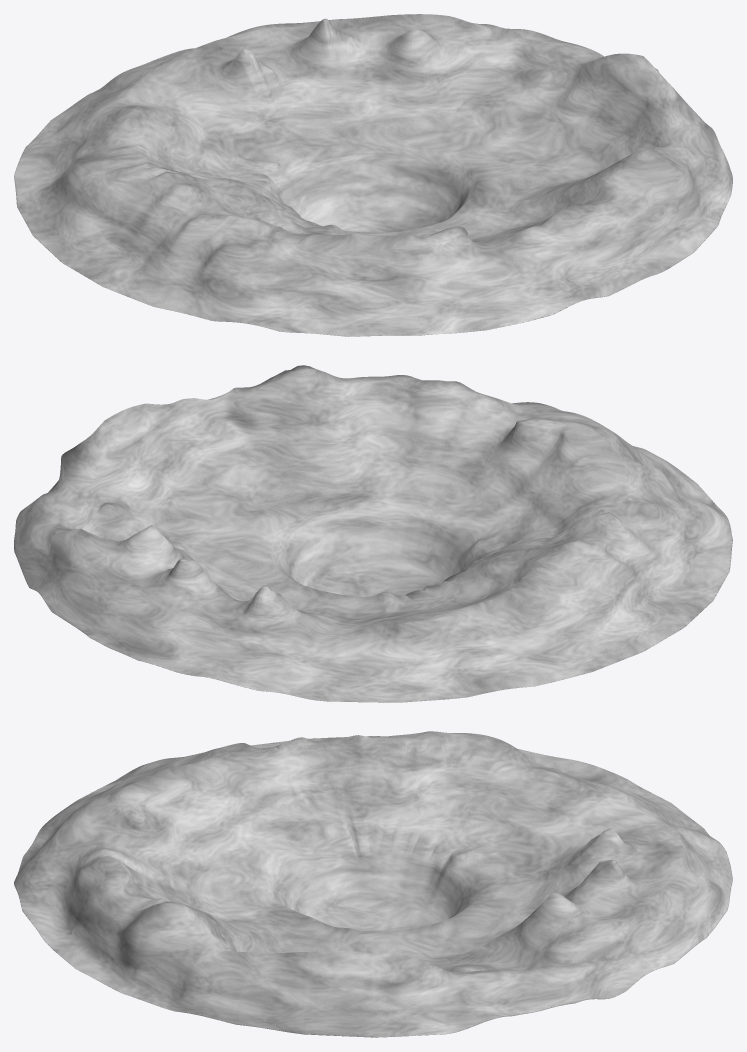
Rendered from terrian.glb.
3 views of the same model, one above another, from view 1: azimuth 30°, elevation 25°; view 2: azimuth 150°, elevation 25°; view 3: azimuth 270°, elevation 25° (orthographic).
Visible parts, largest first — view 1: Circle; view 2: Circle; view 3: Circle.
Part boxes in pixels (left/top/right/bottom): Circle: left=14, top=14, right=732, bottom=336; Circle: left=14, top=365, right=732, bottom=702; Circle: left=14, top=731, right=732, bottom=1037.
Bounding box in the file's own units: 201 × 35.42 × 201.
1 material, 1 textured.
